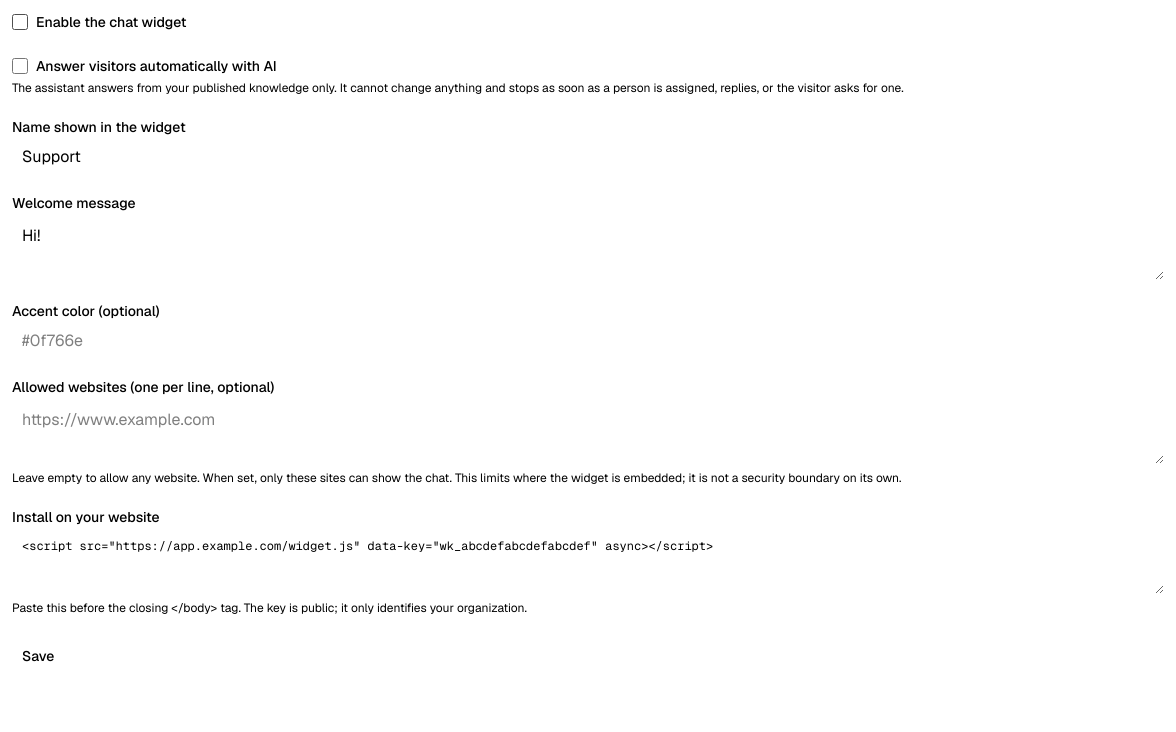
Test: WidgetSettingsForm › saves the settings and sends only editable fields
Click the checkbox labelled "Enable the chat widget" at point(20, 22), box [12,14,28,30]
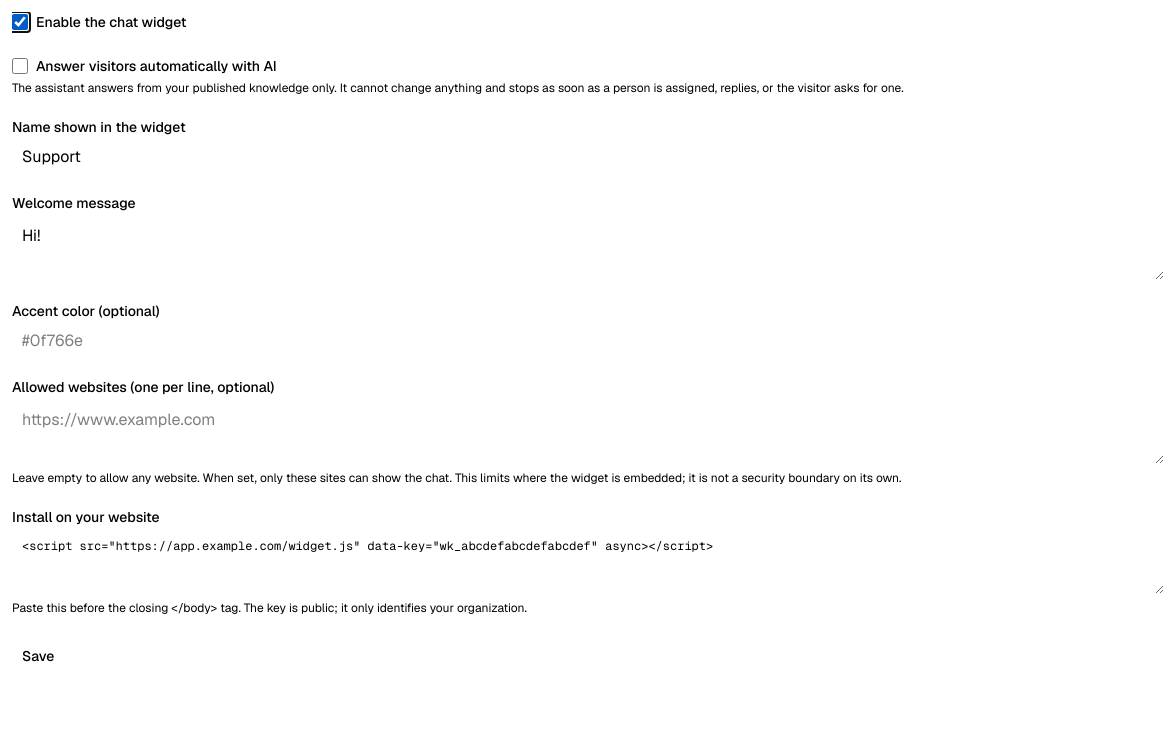
Click the checkbox labelled "Answer visitors automatically with AI" at point(20, 66), box [12,58,28,74]
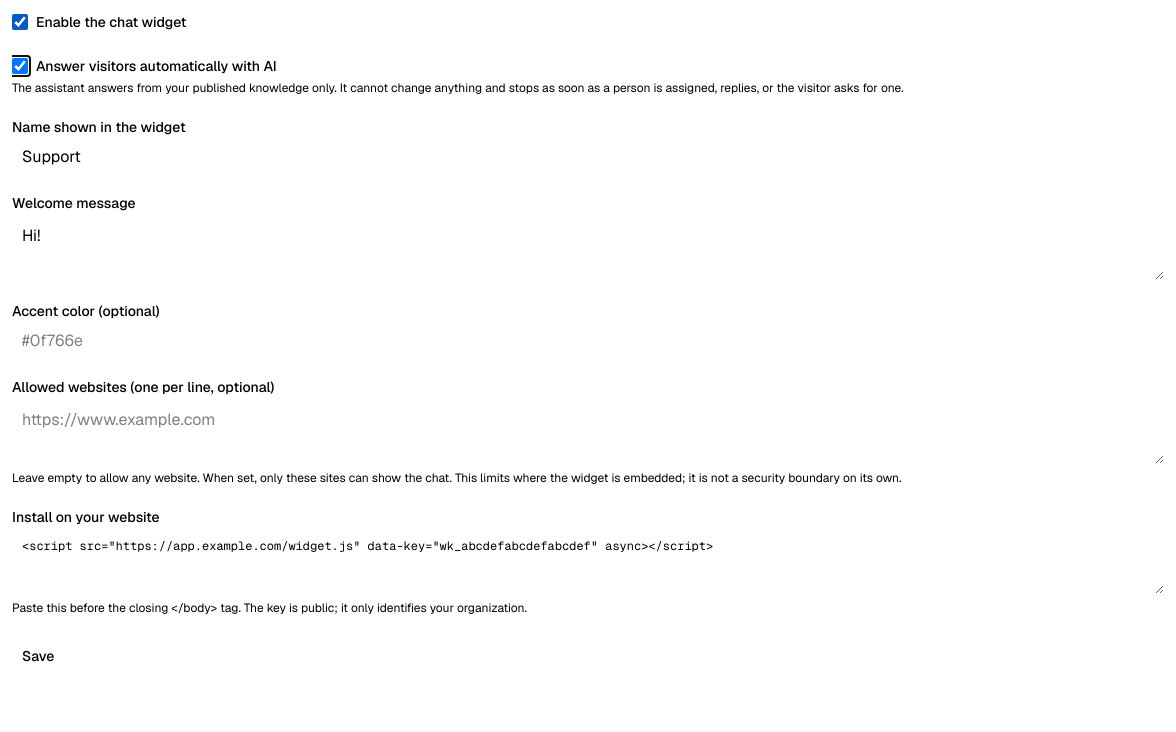
Type "https://shop.example.com" into the text box labelled "Allowed websites (one per line, optional)" at point(588, 432), box [12,400,1164,464]
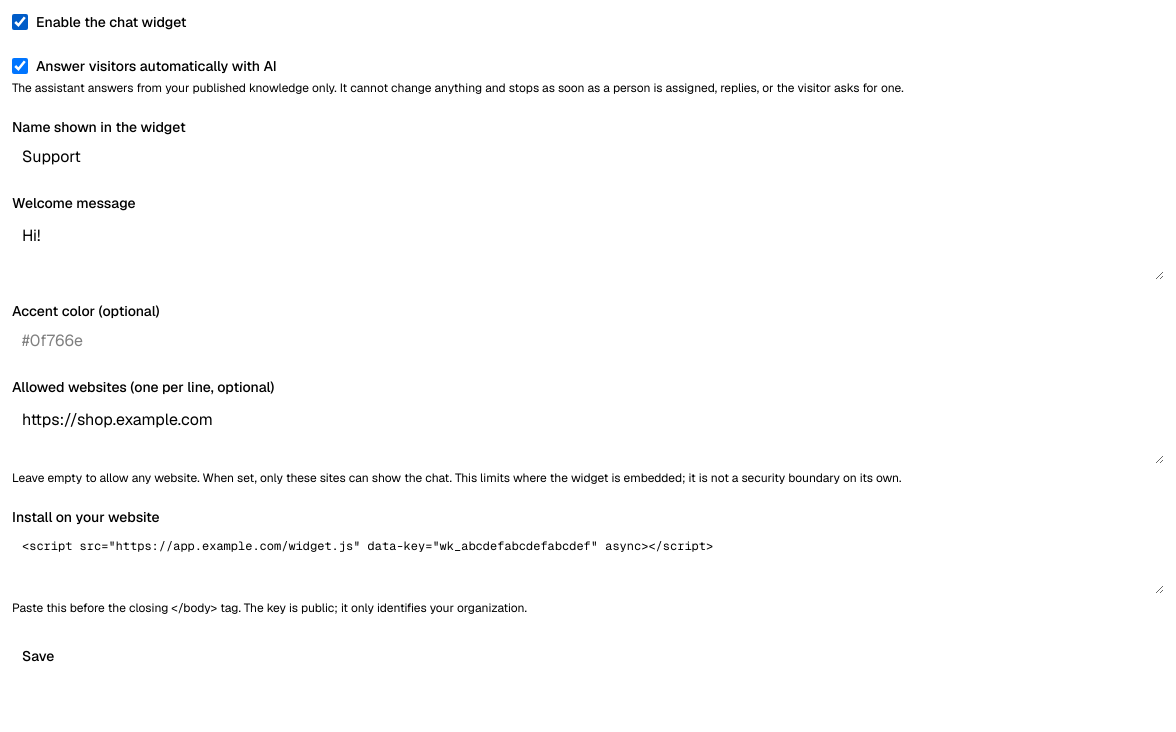
Click the button "Save" at point(38, 656), box [12,640,64,672]
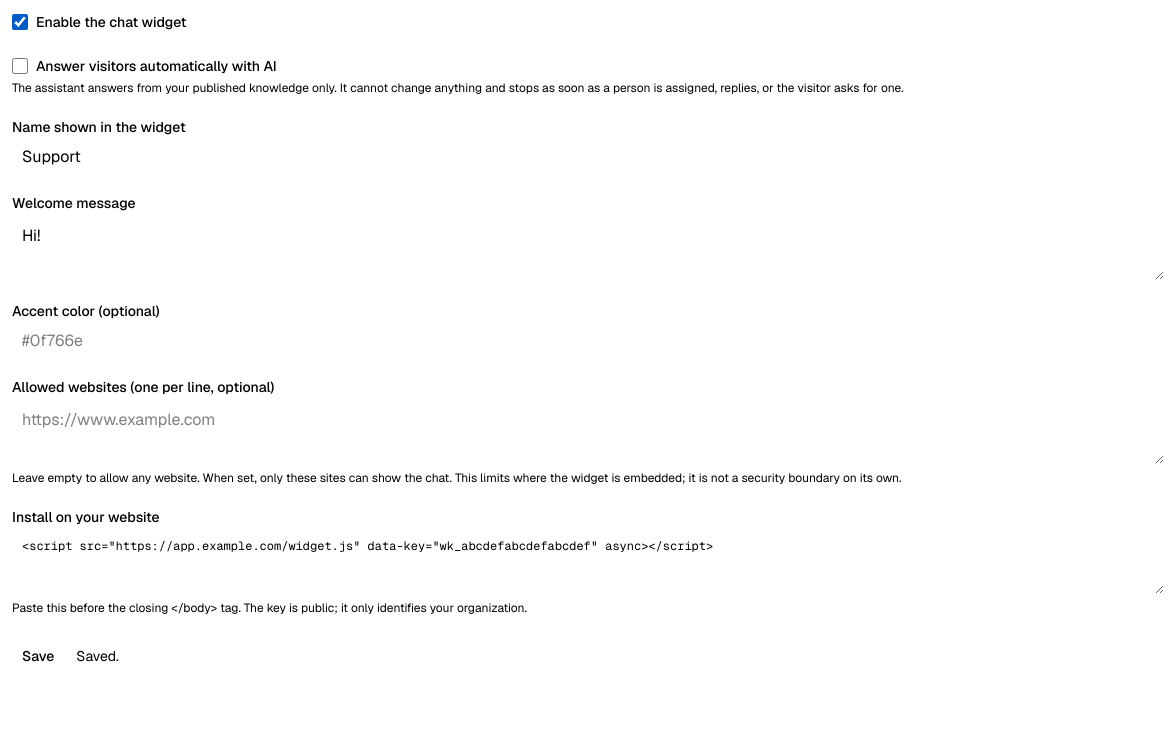
Expected: the text "Saved." is shown, [76,646,119,666]
